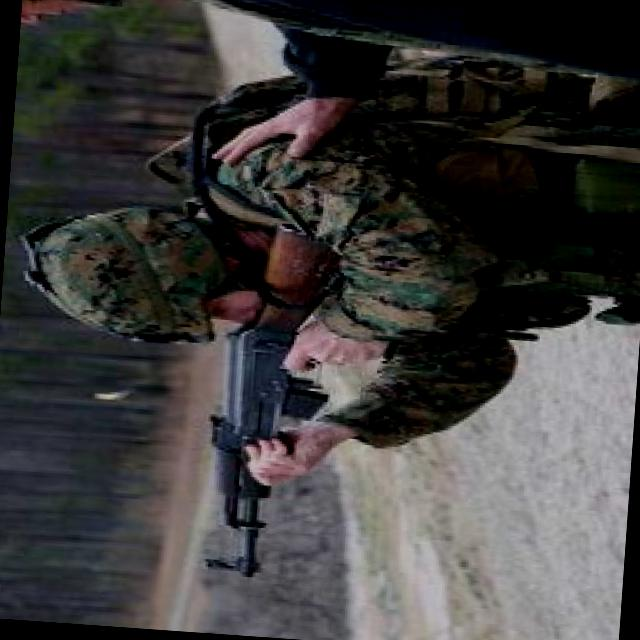long weapon: (182, 212, 398, 598)
